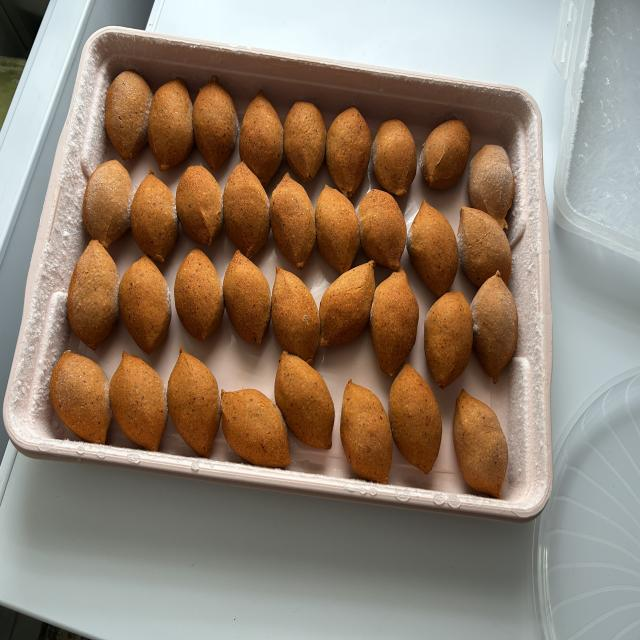kobi: (217, 382, 290, 471), (51, 345, 110, 453), (391, 362, 442, 476), (113, 350, 166, 455), (69, 239, 120, 348), (453, 395, 507, 497), (315, 258, 377, 346), (277, 351, 333, 448), (169, 349, 221, 452), (119, 259, 175, 349), (83, 154, 136, 248), (473, 274, 519, 380), (105, 62, 155, 158), (372, 270, 416, 379), (344, 383, 391, 482), (456, 208, 517, 284), (426, 287, 473, 384), (273, 265, 317, 368), (312, 185, 365, 268), (225, 253, 272, 345), (411, 199, 456, 293), (195, 68, 238, 166), (271, 175, 316, 268), (150, 70, 190, 171), (242, 84, 283, 182), (135, 169, 175, 268), (332, 100, 374, 194), (424, 114, 477, 188), (226, 161, 268, 254), (178, 250, 220, 340), (357, 194, 408, 268), (286, 93, 328, 180), (474, 142, 513, 225), (182, 158, 219, 245), (376, 116, 414, 199)
